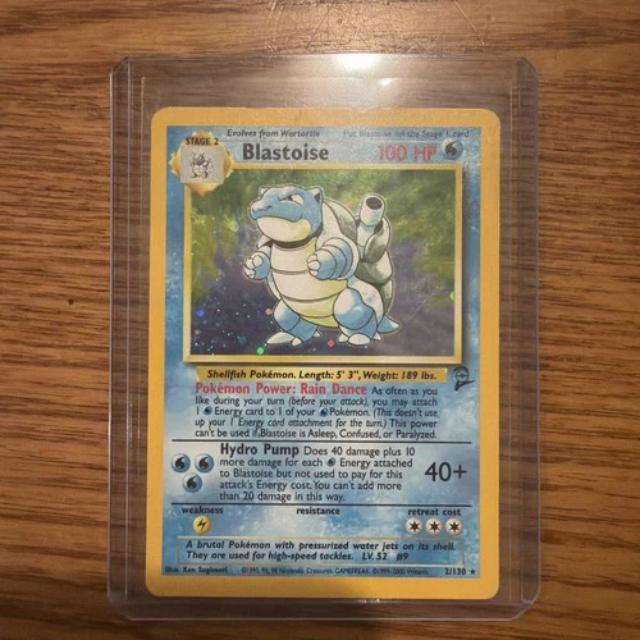Card: (138, 101, 506, 604)
Name: (236, 140, 337, 164)
